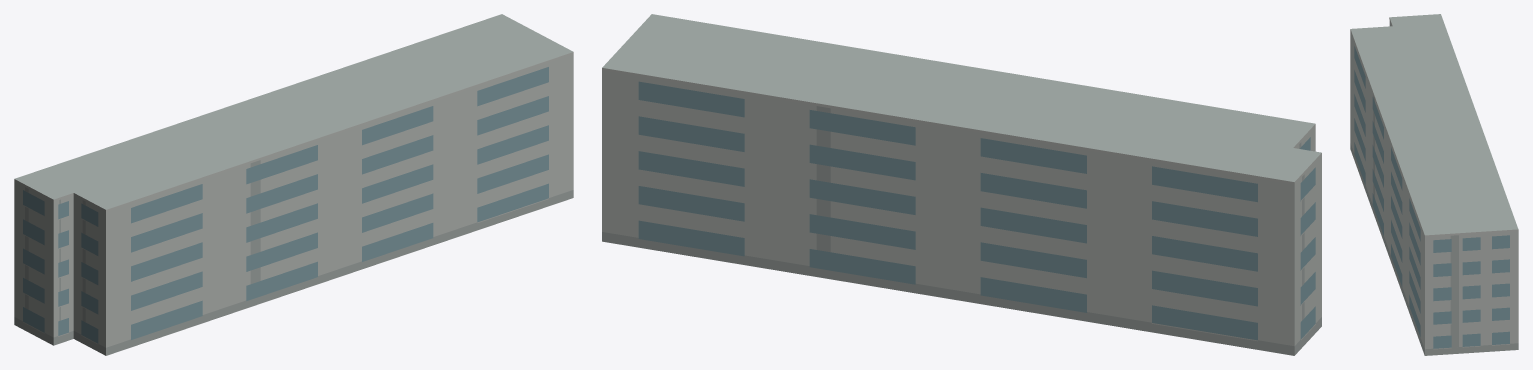
Rendered from residential-3556220e-f98b-4ea6-96b1-56bbd41f5d1a.glb.
3 renders of one model, left to right at view 1: azimuth 30°, elevation 25°; view 2: azimuth 150°, elevation 25°; view 3: azimuth 270°, elevation 25°, orthographic. The views are drawn at different scales.
Visible parts, largest first — view 1: residential-3556220e-f98b-4ea6-96b1-56bbd41f5d1a.tmp; view 2: residential-3556220e-f98b-4ea6-96b1-56bbd41f5d1a.tmp; view 3: residential-3556220e-f98b-4ea6-96b1-56bbd41f5d1a.tmp.
Boxes of the visible parts, bbox=[...] form: residential-3556220e-f98b-4ea6-96b1-56bbd41f5d1a.tmp: bbox=[14, 14, 573, 355]; residential-3556220e-f98b-4ea6-96b1-56bbd41f5d1a.tmp: bbox=[602, 14, 1321, 355]; residential-3556220e-f98b-4ea6-96b1-56bbd41f5d1a.tmp: bbox=[1350, 14, 1518, 355].
Size of the model in its own units: 60.1 by 15.25 by 19.28.
